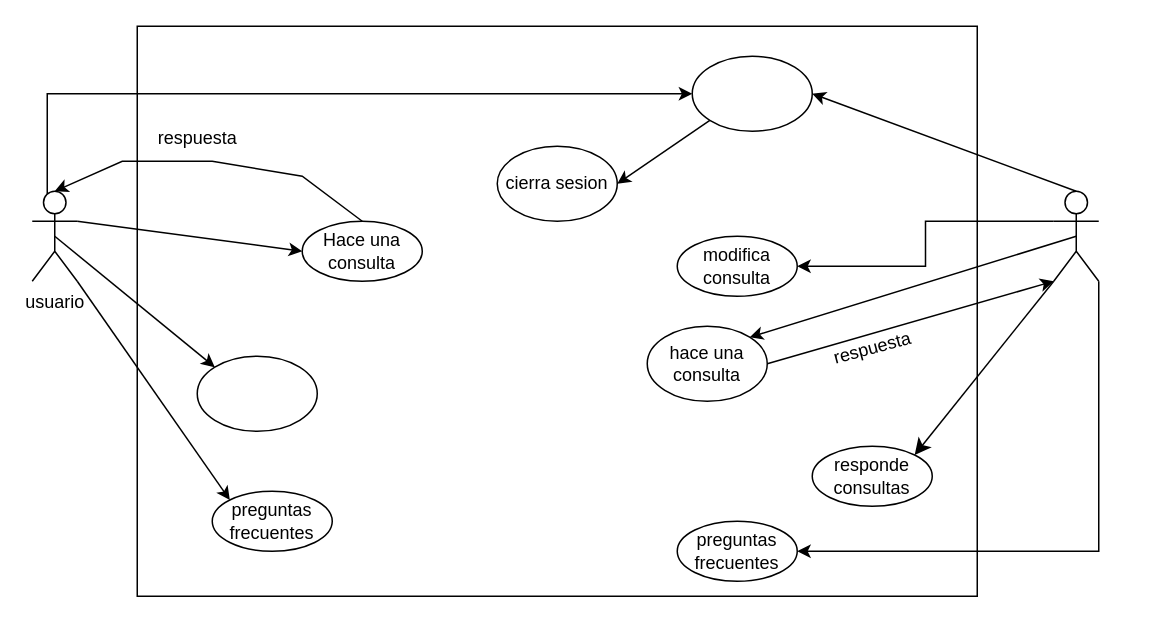
The diagram is 1158 pixels wide and 623 high, and some of its shapes have lost their labels. Here are the shapes that lost their labels. From the top down, the centre of each, then its label:
At [751,93]: "inicia sesion".
At [1075,235]: "Administrador".
At [256,393]: "consulta mapa de la escuela".
